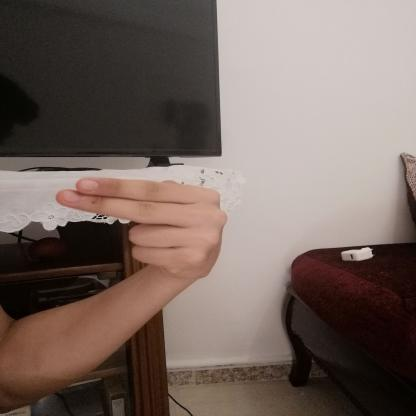AYN: (44, 162, 238, 291)
